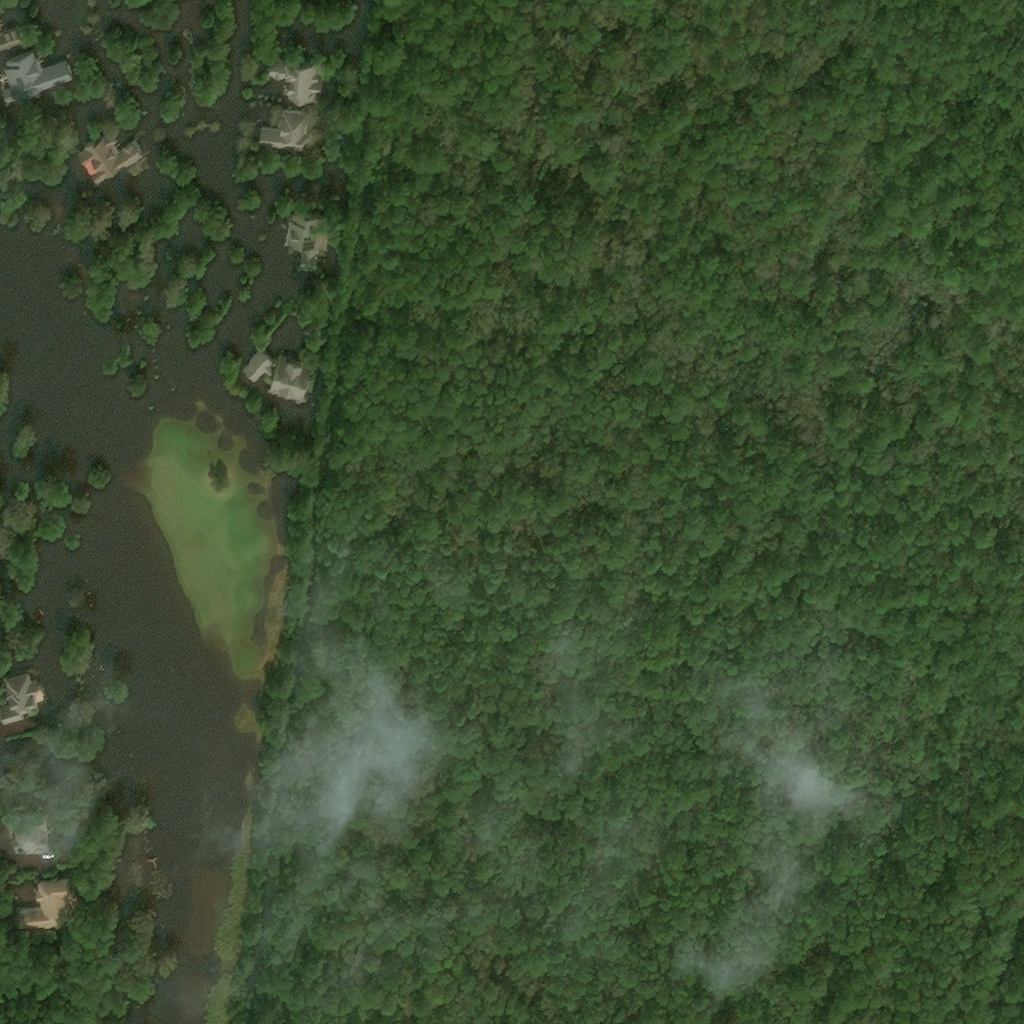major_damage: (77, 132, 145, 182), (5, 50, 72, 98), (283, 213, 331, 271), (264, 58, 324, 104), (262, 352, 313, 400), (14, 878, 64, 926), (0, 671, 40, 724), (255, 110, 308, 149), (9, 810, 44, 849), (240, 345, 272, 379), (0, 25, 23, 51)
